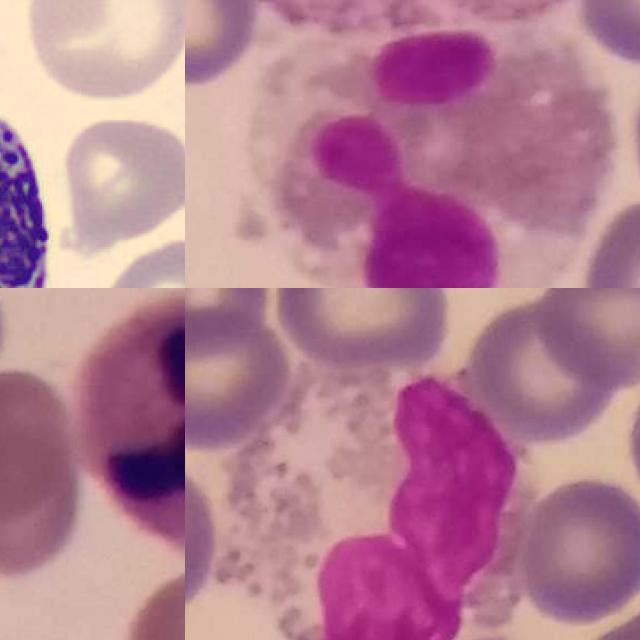Basophil: (0, 77, 68, 288)
Eosinophil: (254, 17, 614, 288), (238, 363, 526, 640)
Neutrophil: (73, 293, 185, 552)
RBC: (54, 109, 185, 254), (18, 0, 185, 106), (91, 234, 185, 288)
